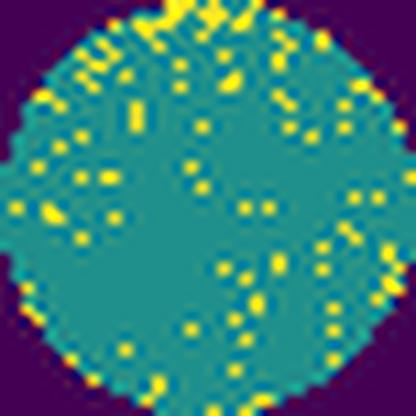Edge-Loc: (130, 0, 190, 51), (199, 0, 224, 45)
